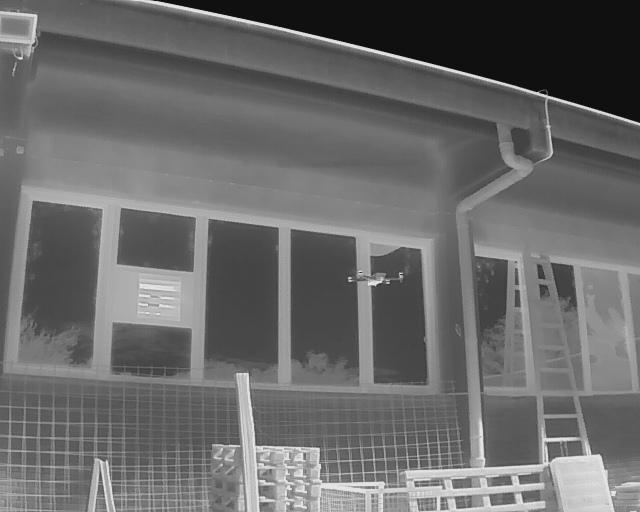drone: (339, 266, 413, 297)
